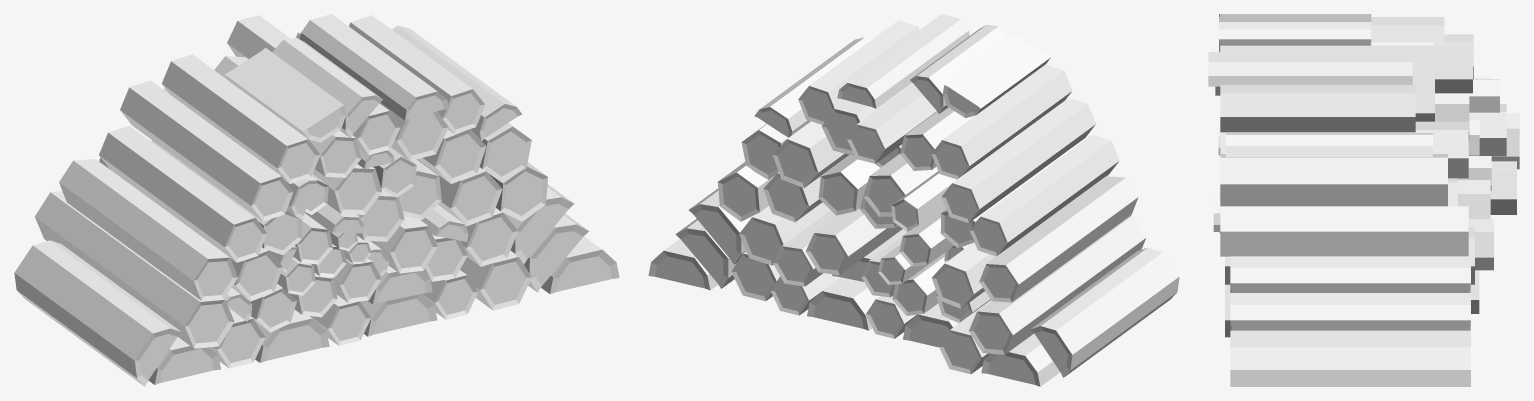
The model's file is Prop_Wood_Pile_03.glb.
The picture shows the model from 3 angles, left to right: view 1: azimuth 30°, elevation 25°; view 2: azimuth 150°, elevation 25°; view 3: azimuth 270°, elevation 25°; orthographic projection. The views are drawn at different scales.
Parts seen in each view (by area): view 1: Prop_Wood_Pile_03; view 2: Prop_Wood_Pile_03; view 3: Prop_Wood_Pile_03.
Part boxes in pixels (x1,y1,x2,y2): Prop_Wood_Pile_03: (14, 14, 619, 386); Prop_Wood_Pile_03: (648, 14, 1179, 386); Prop_Wood_Pile_03: (1208, 14, 1519, 386).
Bounding box in the file's own units: 1.33 × 0.6624 × 0.7763.
1 material, 1 textured.
